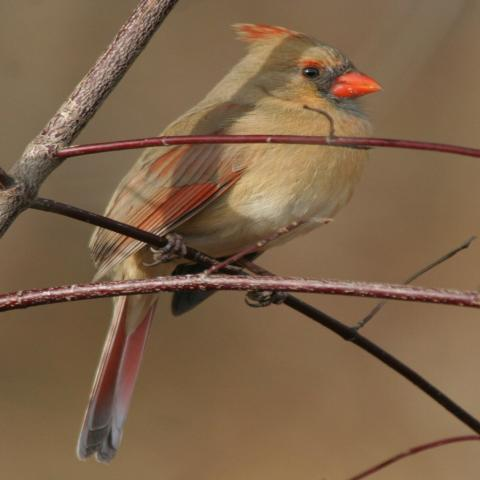bird: (73, 20, 384, 464)
